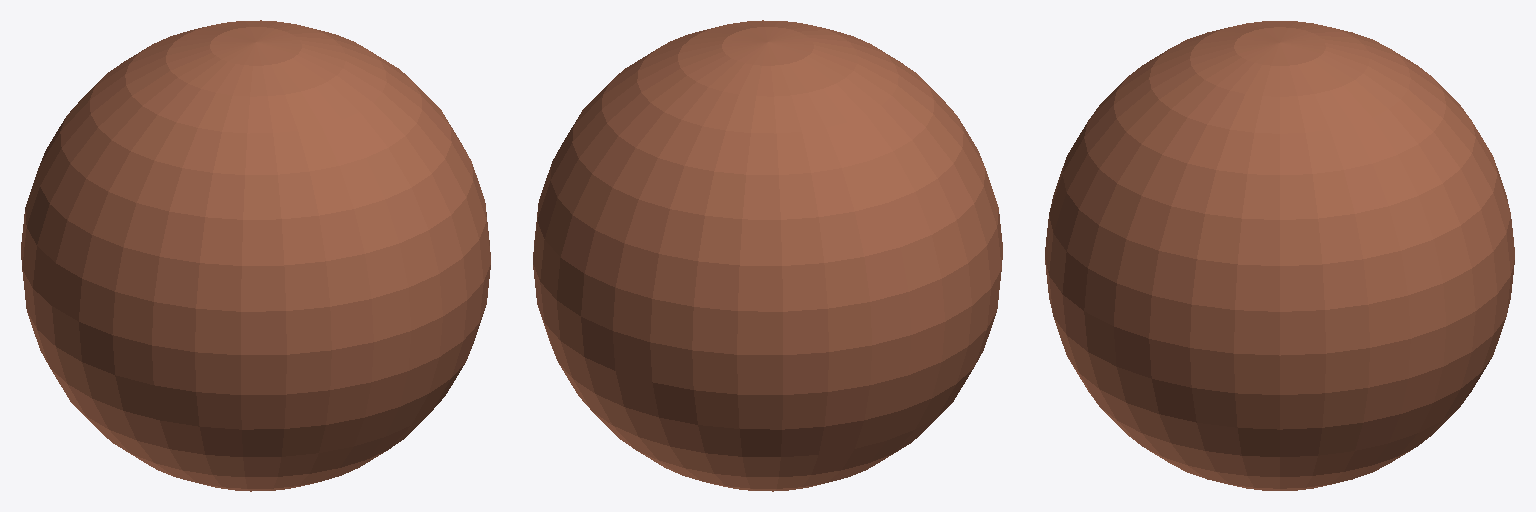
URDF robot description (block):
<?xml version="0.0" ?>
<robot name="block">
  <link name="baseLink">
    <inertial>
      <origin rpy="0 0 0" xyz="0 0 0"/>
       <mass value="0.0001"/>
       <inertia ixx="0.001" ixy="0" ixz="0" iyy="0.001" iyz="0" izz="0.001"/>
    </inertial>
    <visual>
      <origin rpy="0 0 0" xyz="0 0 0"/>
      <geometry>
          <sphere radius="0.03"/>
      </geometry>
       <material name="brown">
           <color rgba="0.68 0.45 0.35 1.0"/>
      </material>
    </visual>
  </link>
</robot>

--- What the picture shows (computed from the rendered views, not written in the file) ---
3 views of the same robot in one strip: view 1: azimuth 30°, elevation 25°; view 2: azimuth 150°, elevation 25°; view 3: azimuth 270°, elevation 25° (orthographic).
Robot: block — 1 links, 0 joints (none); root link baseLink; default pose: every joint at zero.
Visible links, largest first — view 1: baseLink; view 2: baseLink; view 3: baseLink.
Link boxes in pixels (box(x1,y1,x2,y2)): baseLink: box(21, 20, 490, 491); baseLink: box(533, 20, 1002, 491); baseLink: box(1045, 21, 1514, 490).
Bounding box of the posed robot: 0.06 × 0.06 × 0.06 m (x, y, z).
Geometry: primitives only (box / cylinder / sphere), no mesh files.